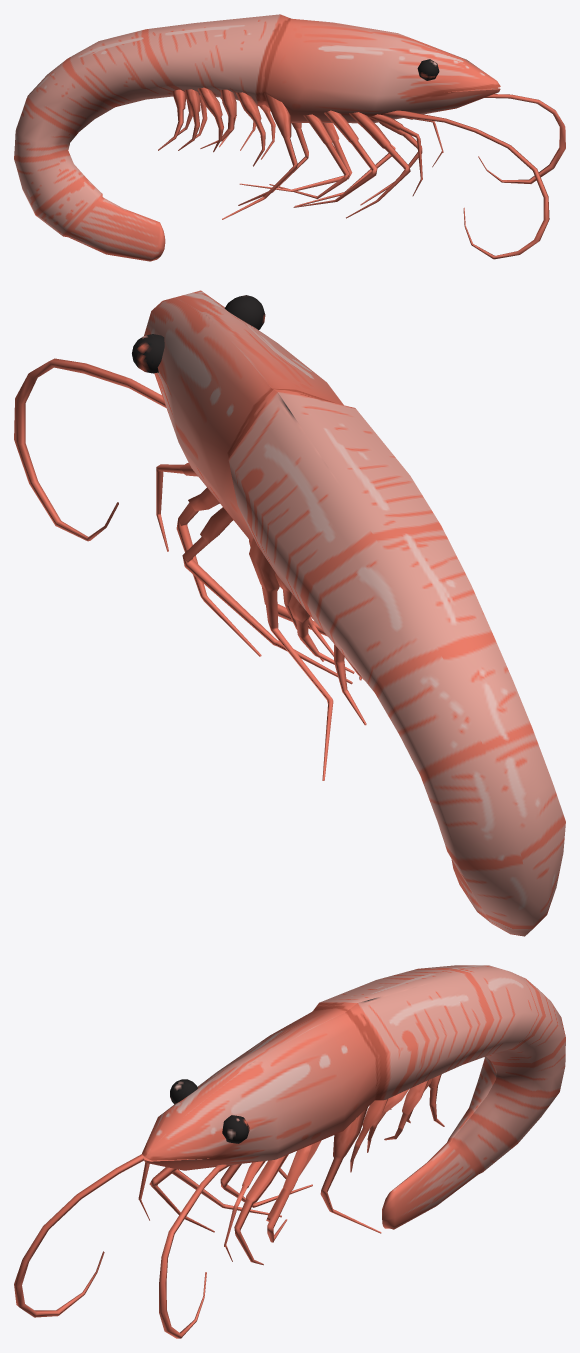
Rendered from shrimp.glb.
3 renders of one model, top to bottom at view 1: azimuth 30°, elevation 25°; view 2: azimuth 150°, elevation 25°; view 3: azimuth 270°, elevation 25°, orthographic. The views are drawn at different scales.
Parts seen in each view (by area): view 1: Mollusc_Shrimp; view 2: Mollusc_Shrimp; view 3: Mollusc_Shrimp.
Boxes of the visible parts, <box> form: Mollusc_Shrimp: <box>14,14,565,261</box>; Mollusc_Shrimp: <box>14,290,565,936</box>; Mollusc_Shrimp: <box>14,965,565,1338</box>.
Bounding box in the file's own units: 0.0617 × 0.0322 × 0.0534.
Materials: 1 (1 with a texture image).
